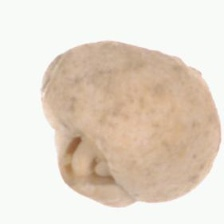L1: (49, 120, 120, 191)
L2: (40, 38, 221, 208)
